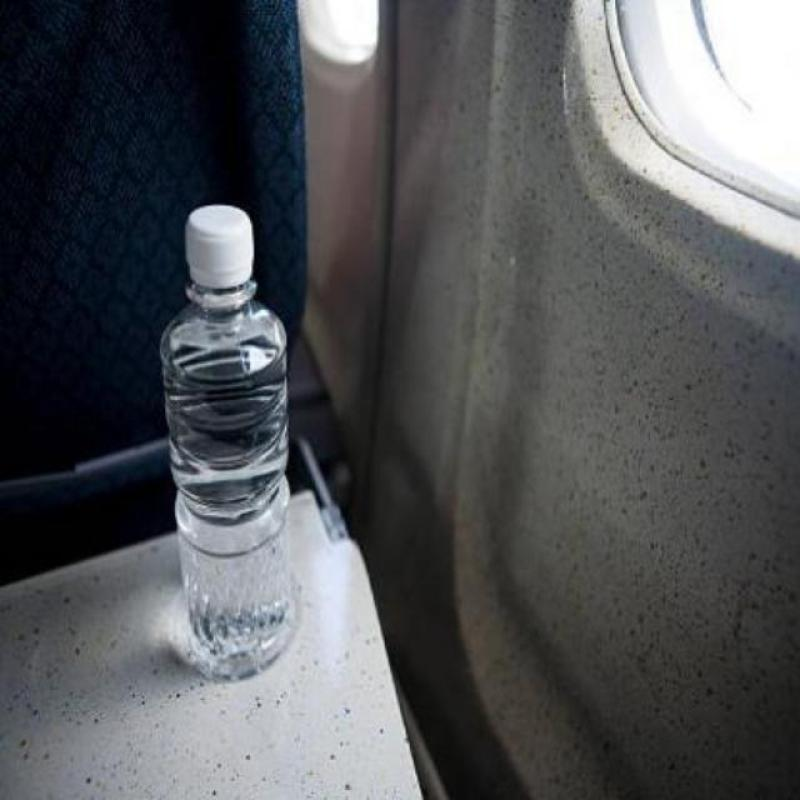botella: (156, 199, 303, 674)
